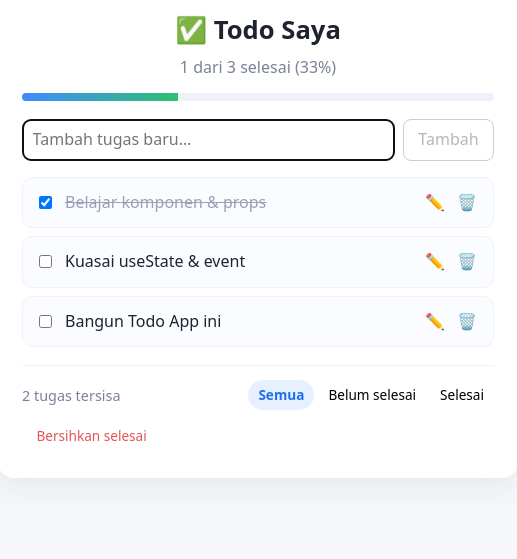
Todo App — menambah › menambahkan tugas baru, lalu mengosongkan inputnya
Type "Uji otomatis" into the field labelled "tugas baru".
click(208, 140); type("Uji otomatis")  # box [22, 118, 395, 160]
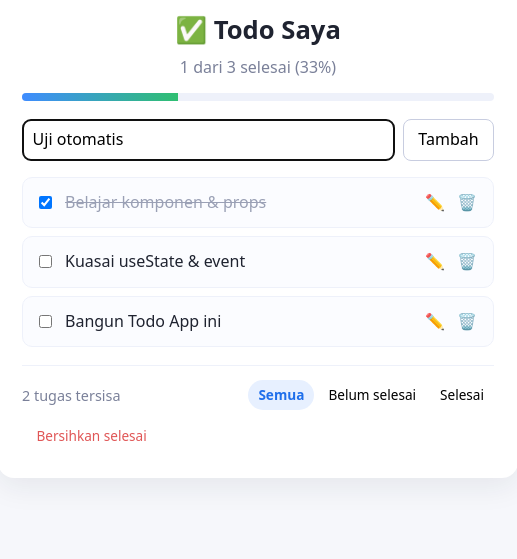
Click the button "Tambah".
click(448, 140)  # box [403, 118, 494, 160]
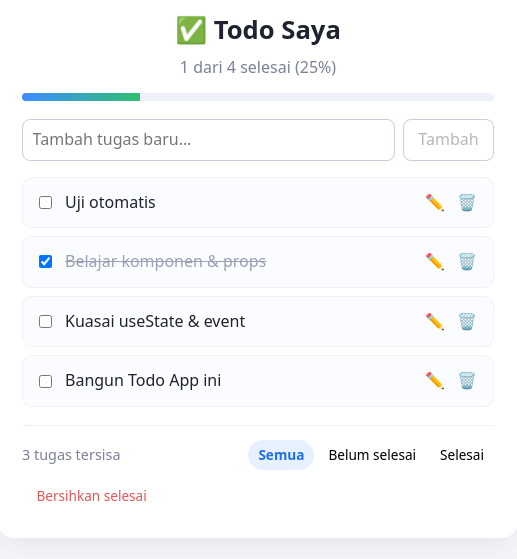
Check: the list item "Uji otomatis ✏️ 🗑️" is shown, box [22, 176, 494, 228]
Check: the number of list items is 4, box [22, 176, 494, 228]; [22, 236, 494, 288]; [22, 296, 494, 347]; [22, 355, 494, 407]
Check: the field labelled "tugas baru" is empty, box [22, 118, 395, 160]
